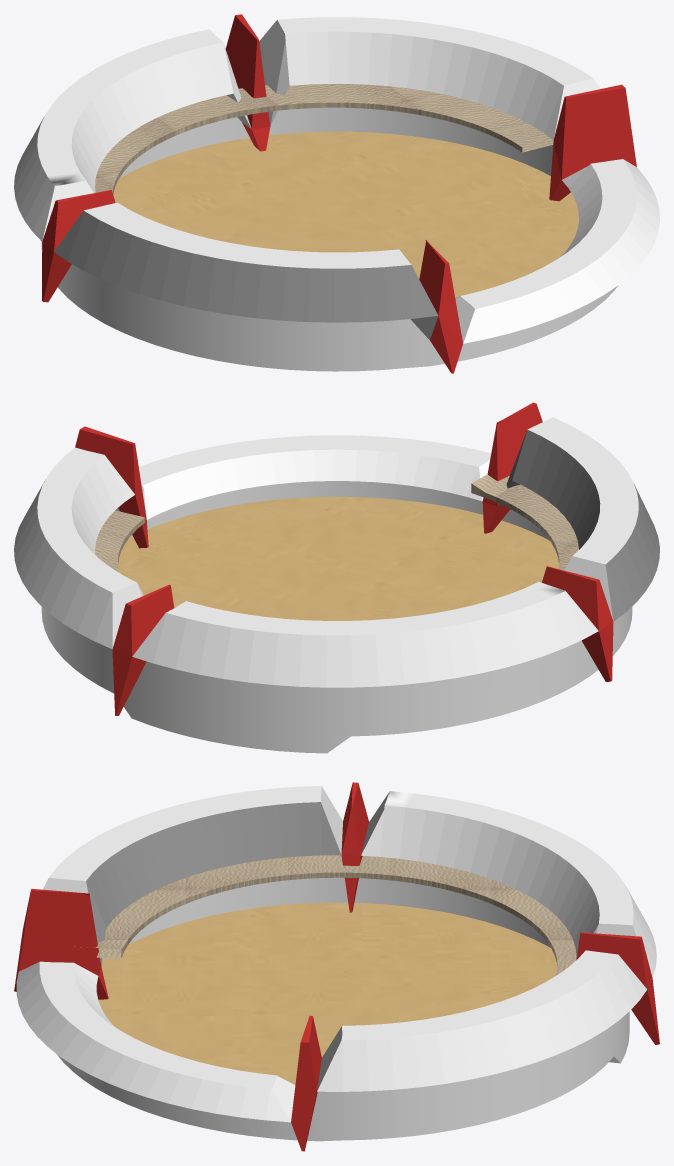
File: Stadium_sidegone.FBX
3 views of the same model, one above another, from view 1: azimuth 30°, elevation 25°; view 2: azimuth 150°, elevation 25°; view 3: azimuth 270°, elevation 25° (orthographic).
Visible parts, largest first — view 1: Tube001, Cylinder001, Tube002; view 2: Tube001, Cylinder001, Tube002; view 3: Tube001, Cylinder001, Tube002.
Part boxes in pixels (bbox=[...]): Tube001: bbox=[14, 14, 659, 373]; Cylinder001: bbox=[113, 131, 578, 298]; Tube002: bbox=[95, 84, 553, 278]; Tube001: bbox=[14, 402, 659, 753]; Cylinder001: bbox=[118, 496, 558, 620]; Tube002: bbox=[95, 474, 578, 572]; Tube001: bbox=[14, 782, 659, 1151]; Cylinder001: bbox=[98, 902, 557, 1084]; Tube002: bbox=[74, 855, 576, 975].
Bounding box in the file's own units: 202 × 41.83 × 200.
34 materials, 31 textured.
